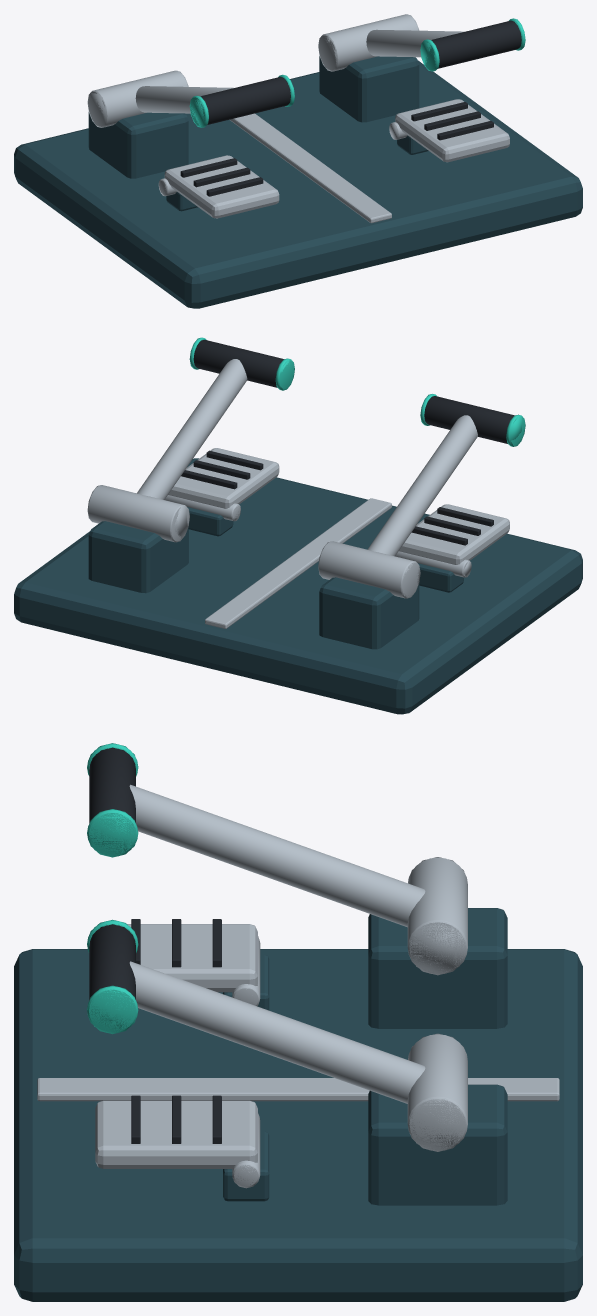
Rendered from pump-handcar.glb.
The picture shows the model from 3 angles, top to bottom: view 1: azimuth 30°, elevation 25°; view 2: azimuth 150°, elevation 25°; view 3: azimuth 270°, elevation 25°; orthographic projection. The views are drawn at different scales.
Visible parts, largest first — view 1: frame, pump_plinth, pump_plinth.001, centre_trim, pedal.001, pedal, handle, handle.001, pump_hinge, pump_hinge.001, lever.001, lever (+7 smaller); view 2: frame, pump_plinth, pump_plinth.001, lever, lever.001, centre_trim, pump_hinge.001, pump_hinge, pedal.001, pedal, handle.001, handle (+4 smaller); view 3: frame, pump_plinth, pump_plinth.001, lever.001, lever, pedal, centre_trim, pedal.001, pump_hinge, pump_hinge.001, handle, handle.001 (+7 smaller).
Part boxes in pixels (left/top/right/bottom): frame: left=14, top=60, right=582, bottom=308; pump_plinth: left=319, top=56, right=419, bottom=122; pump_plinth.001: left=88, top=112, right=188, bottom=178; centre_trim: left=229, top=113, right=391, bottom=223; pedal.001: left=164, top=155, right=279, bottom=218; pedal: left=395, top=99, right=509, bottom=162; handle: left=431, top=20, right=521, bottom=68; handle.001: left=200, top=77, right=290, bottom=124; pump_hinge: left=318, top=14, right=418, bottom=71; pump_hinge.001: left=88, top=70, right=187, bottom=127; lever.001: left=135, top=86, right=233, bottom=113; lever: left=366, top=29, right=464, bottom=57; frame: left=14, top=458, right=582, bottom=714; pump_plinth: left=88, top=521, right=188, bottom=593; pump_plinth.001: left=319, top=577, right=419, bottom=649; lever: left=137, top=359, right=247, bottom=499; lever.001: left=367, top=415, right=477, bottom=556; centre_trim: left=205, top=498, right=391, bottom=628; pump_hinge.001: left=318, top=541, right=419, bottom=598; pump_hinge: left=88, top=485, right=189, bottom=541; pedal.001: left=399, top=504, right=509, bottom=564; pedal: left=168, top=448, right=279, bottom=508; handle.001: left=424, top=396, right=514, bottom=443; handle: left=194, top=340, right=283, bottom=387; frame: left=14, top=949, right=582, bottom=1301; pump_plinth: left=368, top=1084, right=507, bottom=1205; pump_plinth.001: left=368, top=908, right=507, bottom=1028; lever.001: left=129, top=784, right=425, bottom=927; lever: left=129, top=961, right=425, bottom=1103; pedal: left=95, top=1100, right=257, bottom=1168; centre_trim: left=37, top=1078, right=559, bottom=1101; pedal.001: left=127, top=924, right=257, bottom=992; pump_hinge: left=407, top=1034, right=467, bottom=1150; pump_hinge.001: left=407, top=857, right=467, bottom=973; handle: left=89, top=924, right=135, bottom=999; handle.001: left=89, top=748, right=135, bottom=823.
Bounding box in the file's own units: 0.62 × 0.277 × 0.49.
